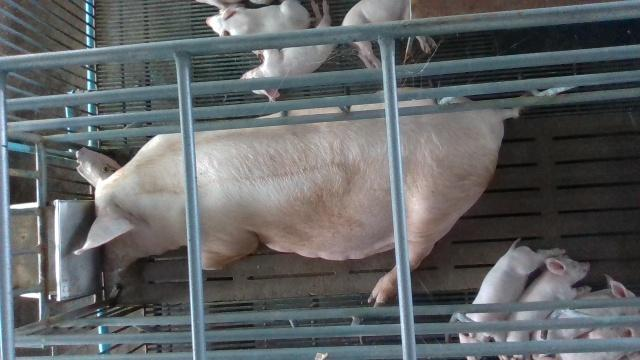piglet: (459, 237, 567, 360), (240, 0, 340, 102), (530, 275, 640, 360), (503, 255, 590, 360), (341, 0, 439, 69), (206, 0, 310, 36), (554, 322, 640, 360)
sow-sleep: (76, 86, 523, 308)
